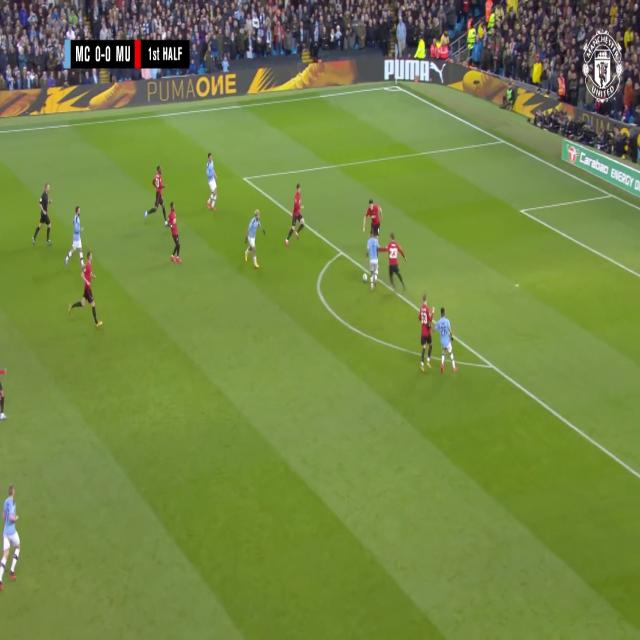Ball: (360, 268, 368, 286)
TEAM 1: (4, 487, 24, 581), (244, 207, 267, 272), (433, 310, 455, 374), (67, 206, 85, 268), (365, 231, 382, 291), (206, 154, 220, 213)
TEAM 2: (70, 250, 100, 328), (284, 185, 305, 248), (386, 234, 409, 291), (419, 300, 435, 371), (166, 197, 182, 262), (151, 167, 167, 219), (364, 203, 383, 240), (0, 370, 7, 420)
